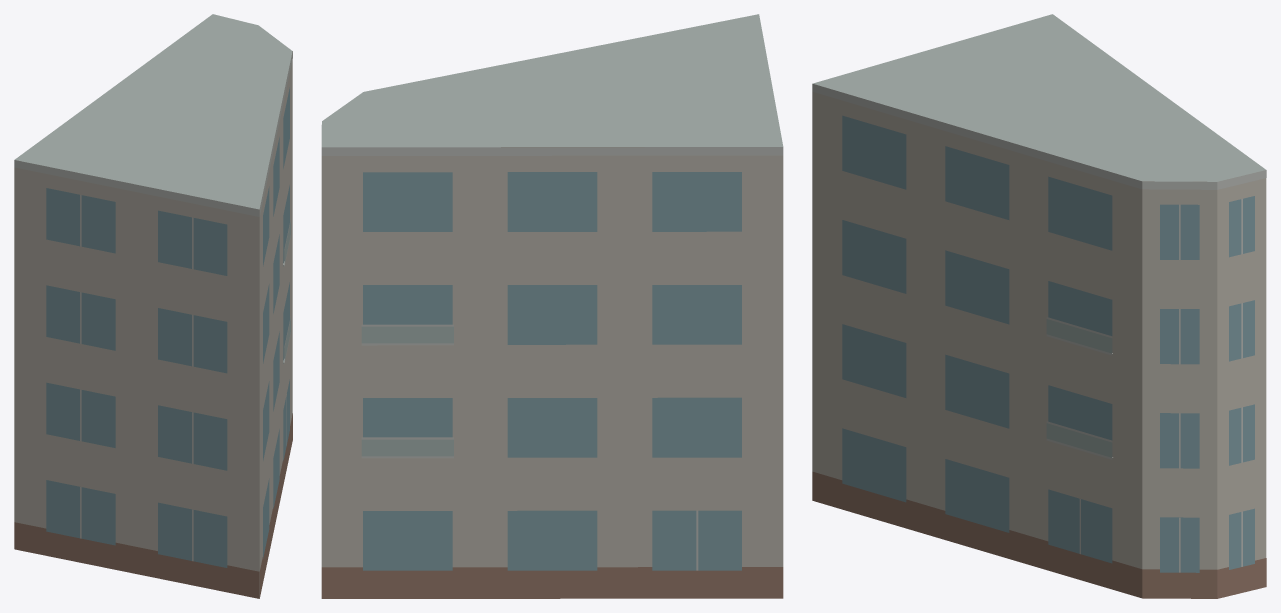
The model's file is survey-upis-32686057.glb.
3 views of the same model, side by side, from view 1: azimuth 30°, elevation 25°; view 2: azimuth 150°, elevation 25°; view 3: azimuth 270°, elevation 25° (orthographic). The views are drawn at different scales.
Parts seen in each view (by area): view 1: survey-upis-32686057.tmp; view 2: survey-upis-32686057.tmp; view 3: survey-upis-32686057.tmp.
Boxes of the visible parts, <box> form: survey-upis-32686057.tmp: <box>14,14,292,598</box>; survey-upis-32686057.tmp: <box>321,14,783,598</box>; survey-upis-32686057.tmp: <box>812,14,1266,598</box>.
Size of the model in its own units: 10.88 by 12.6 by 12.44.
